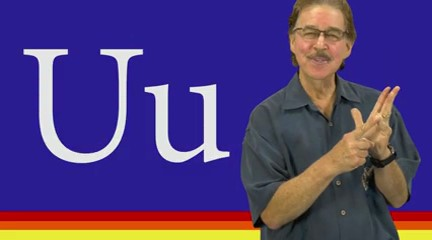U: (320, 84, 401, 174)
